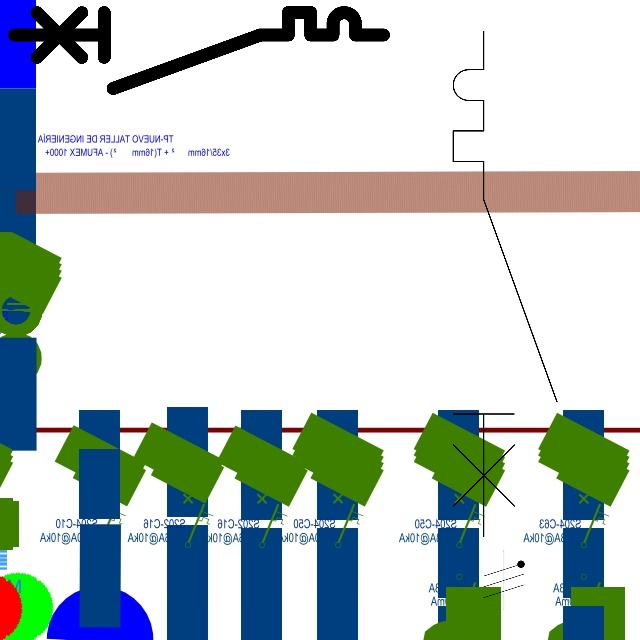interruptor_termomagnetico: (440, 18, 570, 549), (5, 3, 393, 98)
